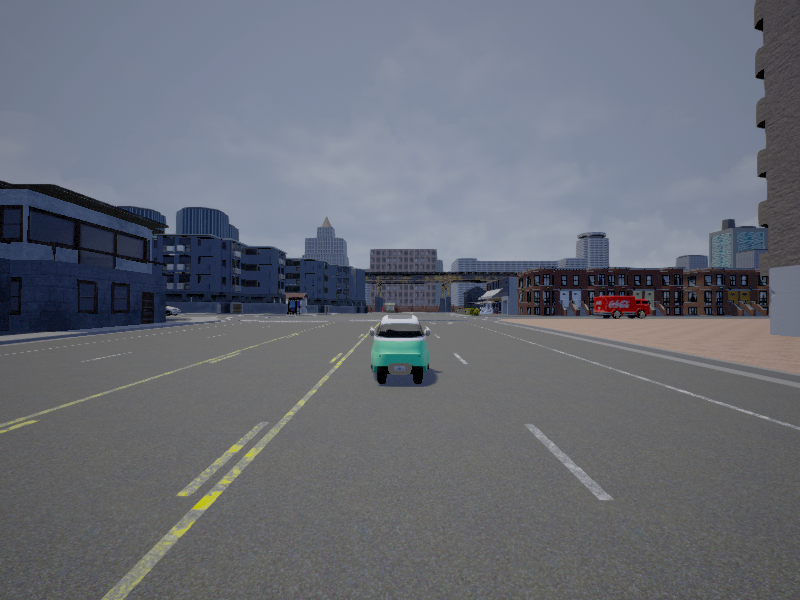Benign: (369, 313, 431, 385), (593, 296, 650, 319)
